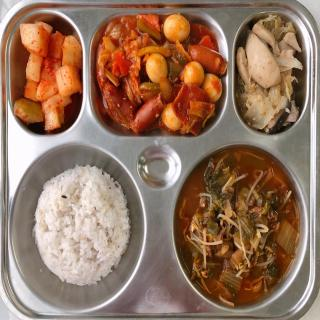Nasi: (31, 158, 133, 290)
